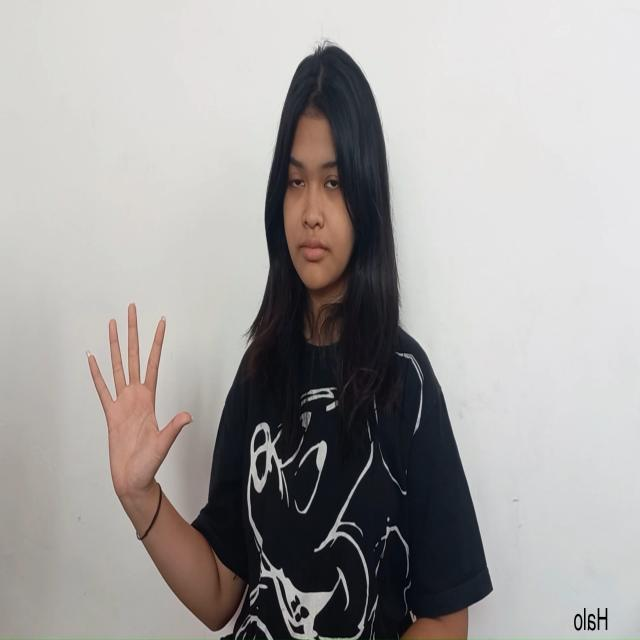Halo -BISINDO-: (86, 300, 192, 510)
